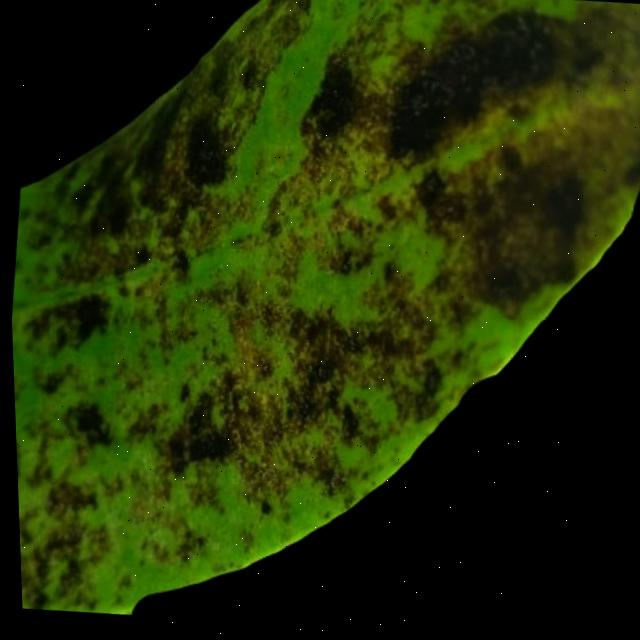mite: (383, 4, 567, 178), (385, 37, 491, 171), (19, 286, 115, 361), (302, 53, 366, 145), (50, 389, 123, 462), (179, 112, 234, 192), (162, 424, 236, 476), (412, 170, 470, 232), (62, 399, 115, 449), (41, 479, 99, 521), (68, 291, 112, 344), (413, 170, 448, 211), (333, 405, 360, 447), (69, 404, 100, 435), (304, 360, 335, 387), (255, 500, 272, 517)
sunburn: (9, 0, 640, 629)
